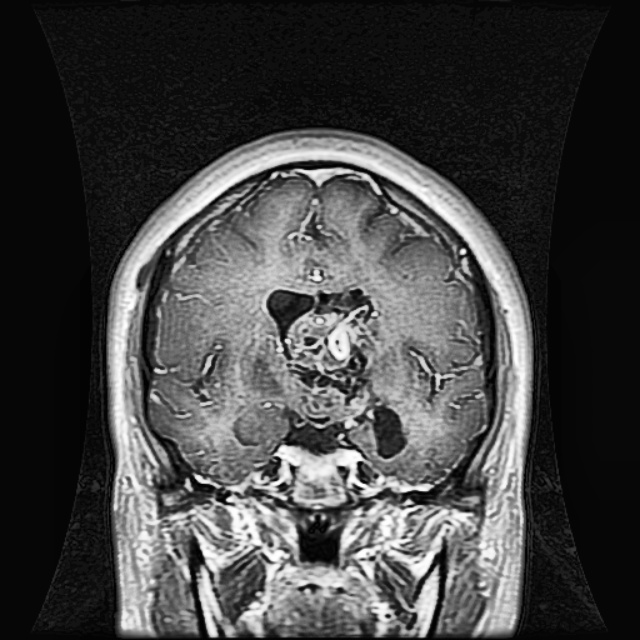Meningioma: (265, 289, 410, 459)
